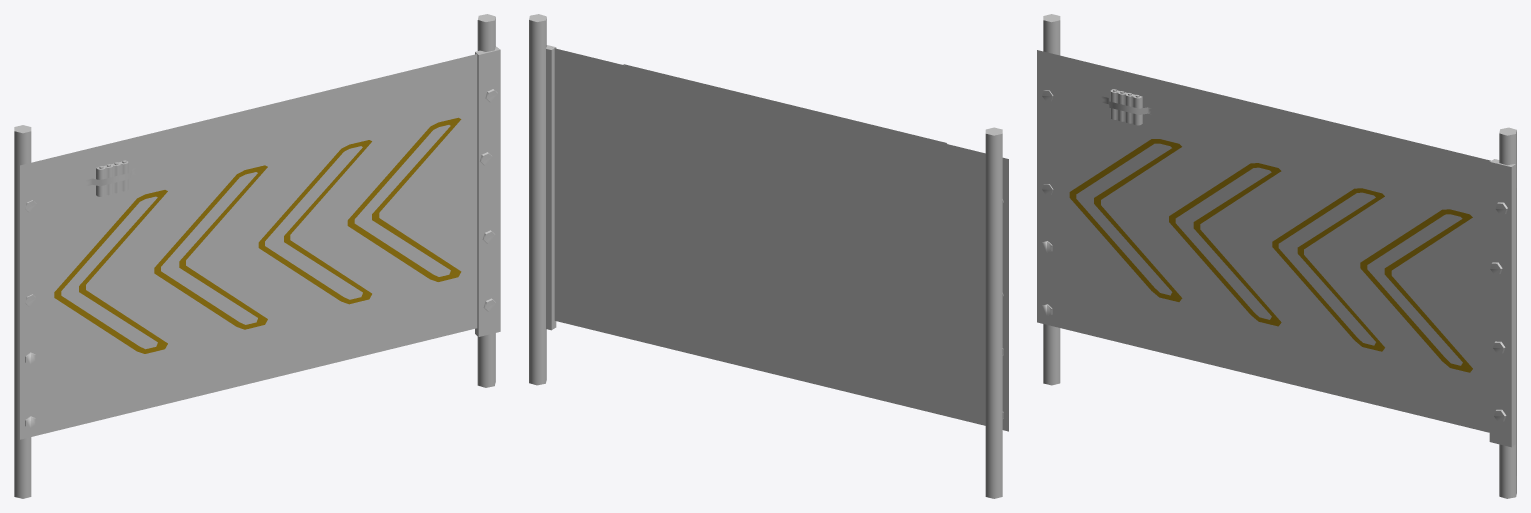
File: Neon Direction.FBX
The picture shows the model from 3 angles, left to right: view 1: azimuth 30°, elevation 25°; view 2: azimuth 150°, elevation 25°; view 3: azimuth 330°, elevation 25°; orthographic projection.
Visible parts, largest first — view 1: Neon Direction_LOD0, NeonArrows_LOD0; view 2: Neon Direction_LOD0; view 3: Neon Direction_LOD0, NeonArrows_LOD0.
Boxes of the visible parts, x1,y1,x2,y2 form: Neon Direction_LOD0: (14,14,500,498); NeonArrows_LOD0: (54,117,461,353); Neon Direction_LOD0: (529,14,1008,498); Neon Direction_LOD0: (1037,14,1516,498); NeonArrows_LOD0: (1069,139,1472,372).
Size of what is drawn, in the model's own units: 124 by 90.45 by 6.19.
